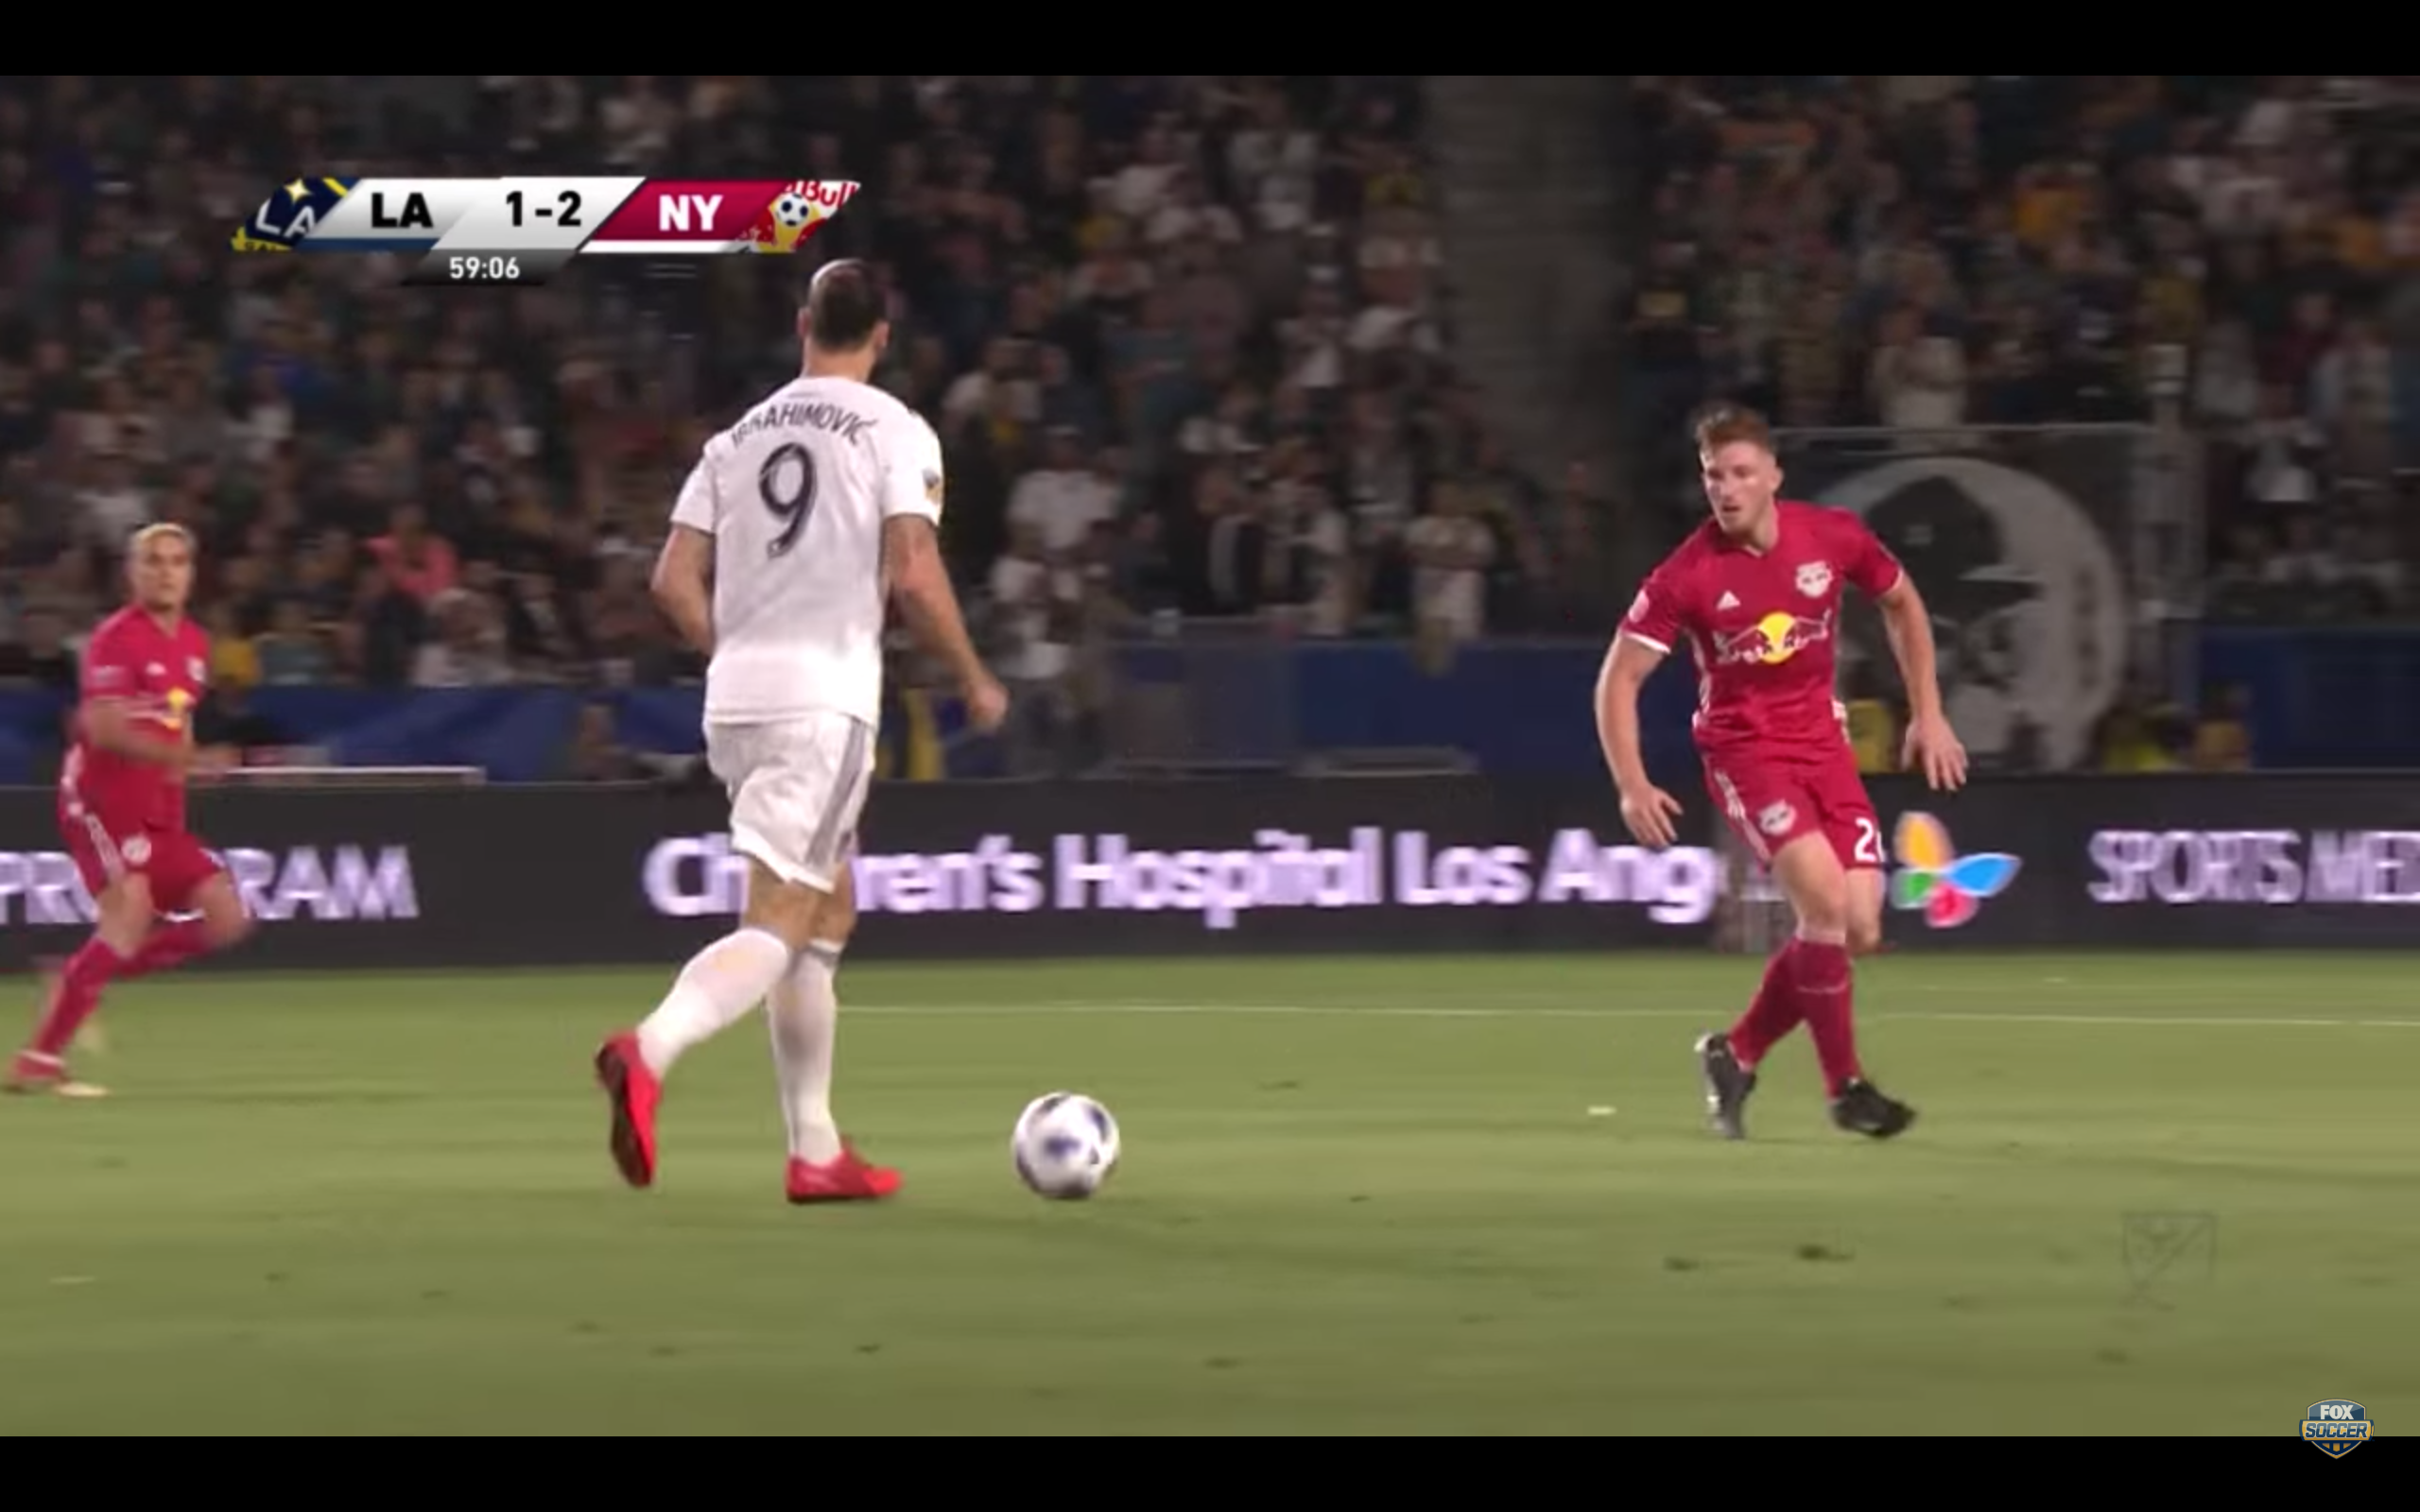soccer player: (582, 252, 1016, 1233), (1582, 398, 1978, 1177), (1, 507, 270, 1115)
soccerball: (1004, 1080, 1134, 1215)
